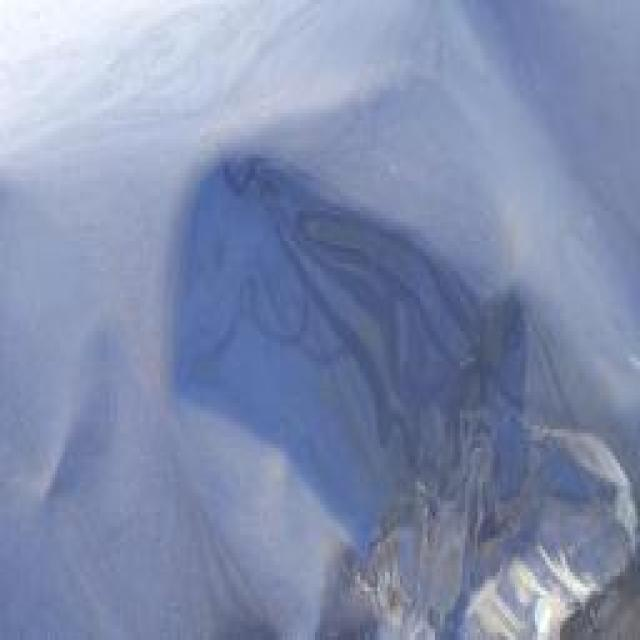Bonnet: (168, 117, 592, 640)
